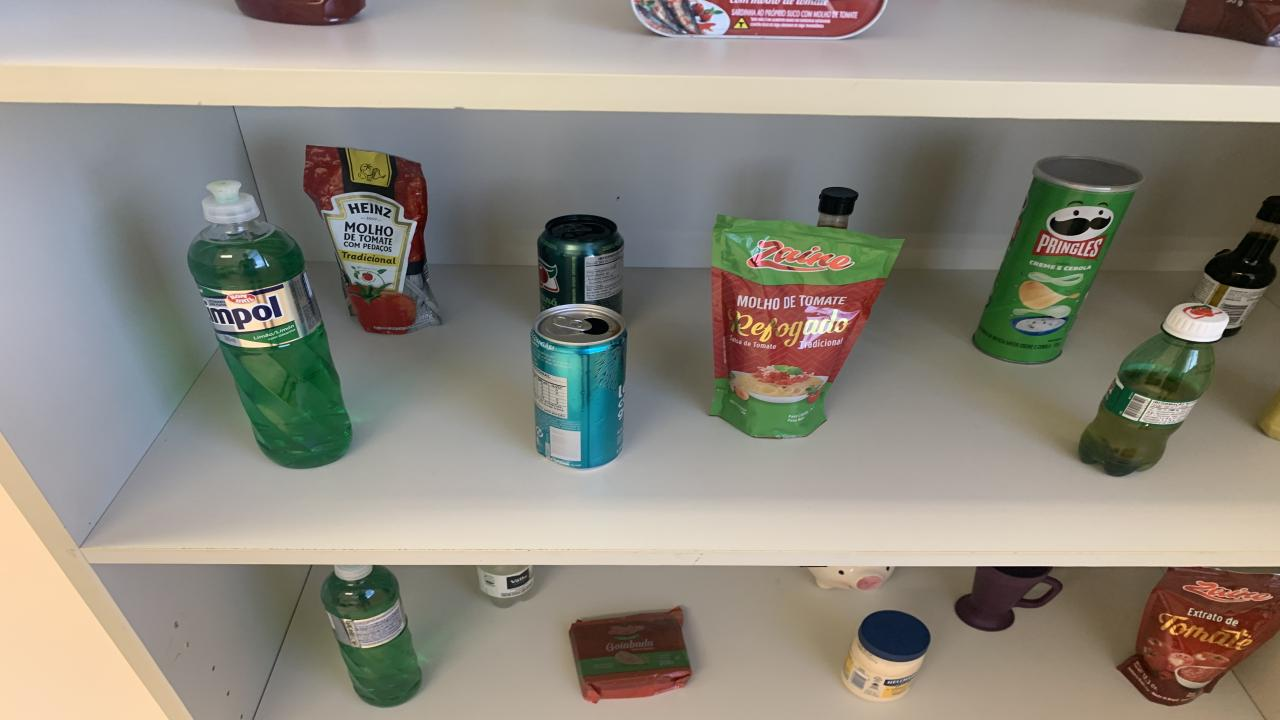Coffee-Pantry_Items: (1178, 0, 1280, 47)
Detergent-Cleanup_Items: (188, 182, 350, 467), (320, 564, 422, 707)
English_Sauce-Pantry_Items: (1192, 197, 1280, 338), (818, 188, 858, 229)
Guarana-Drinks: (1080, 304, 1228, 476)
Guarana_Can-Drinks: (538, 214, 625, 311)
Guava-Snacks: (570, 606, 692, 703)
Ketchup-Pantry_Items: (235, 0, 365, 24)
Mayonnaise-Pantry_Items: (842, 609, 930, 701)
Pig_Safe-Miscellaneous: (808, 566, 895, 591)
Pringles-Snacks: (972, 156, 1142, 364)
Soda-Drinks: (478, 564, 532, 608)
Tea-Drinks: (530, 304, 628, 469)
Tomato_Sauce-Pantry_Items: (710, 216, 902, 437), (302, 144, 442, 334), (1118, 568, 1280, 705)
Tuna_Can-Pantry_Items: (632, 0, 888, 39)
